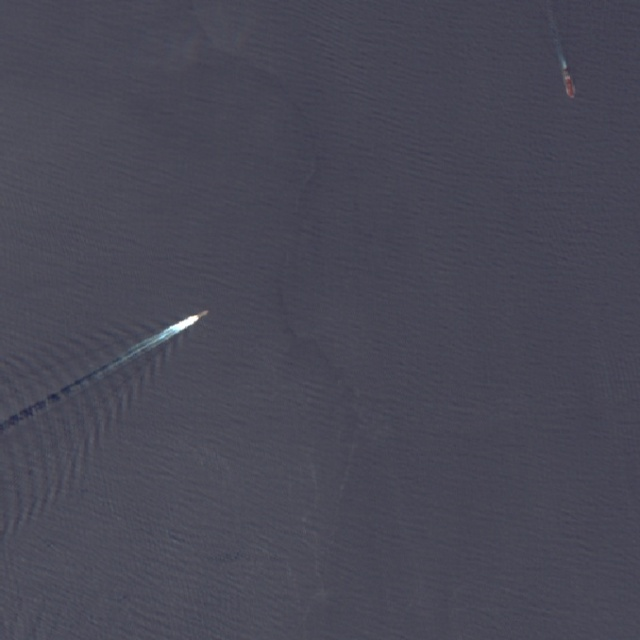wake: (32, 269, 231, 438)
